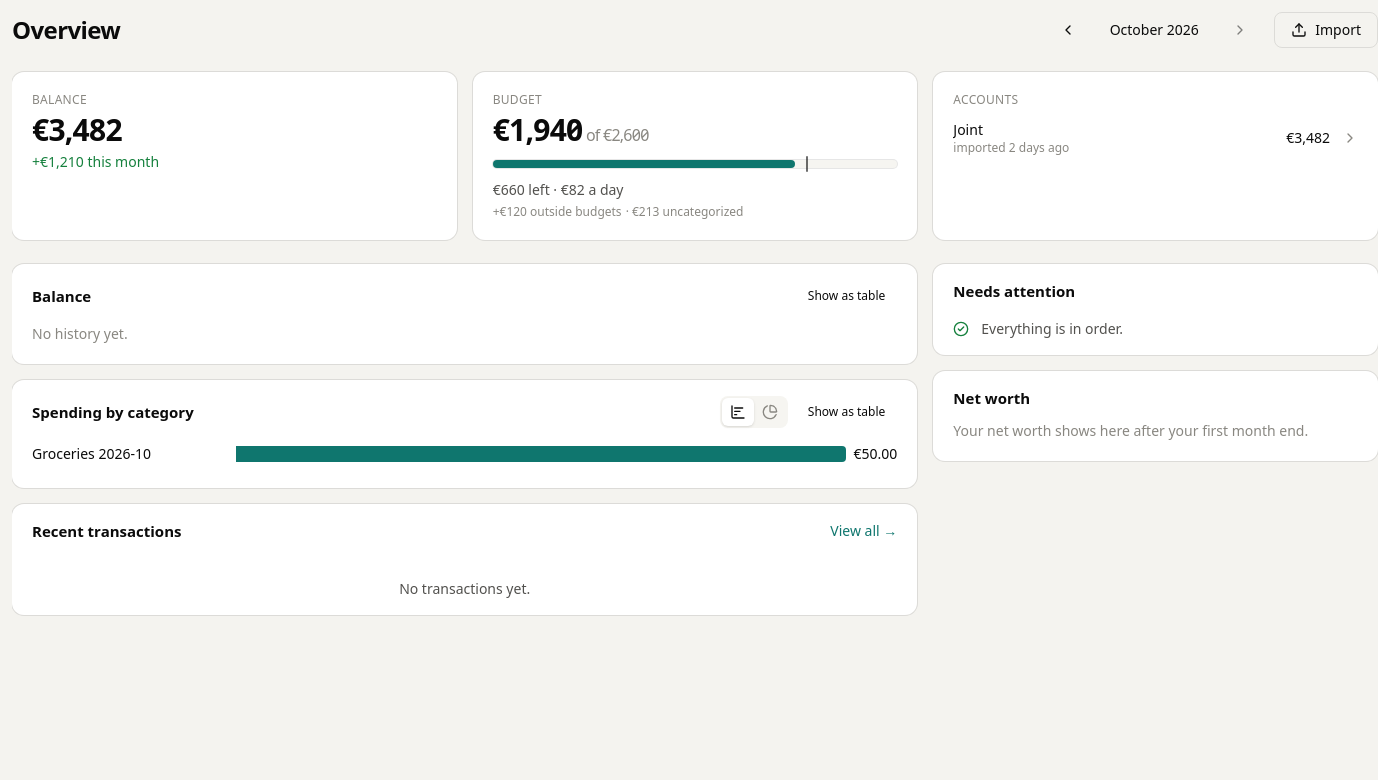
Test: Charts and tabs › the charts follow the page's month
Check: the text "Groceries 2026-10" is shown, box [32,444,151,464]
What coordinates should you click on to do the following:
click the button named "Previous month"
I would click on:
 (1068, 30)
Its box is [1050,12,1086,48].
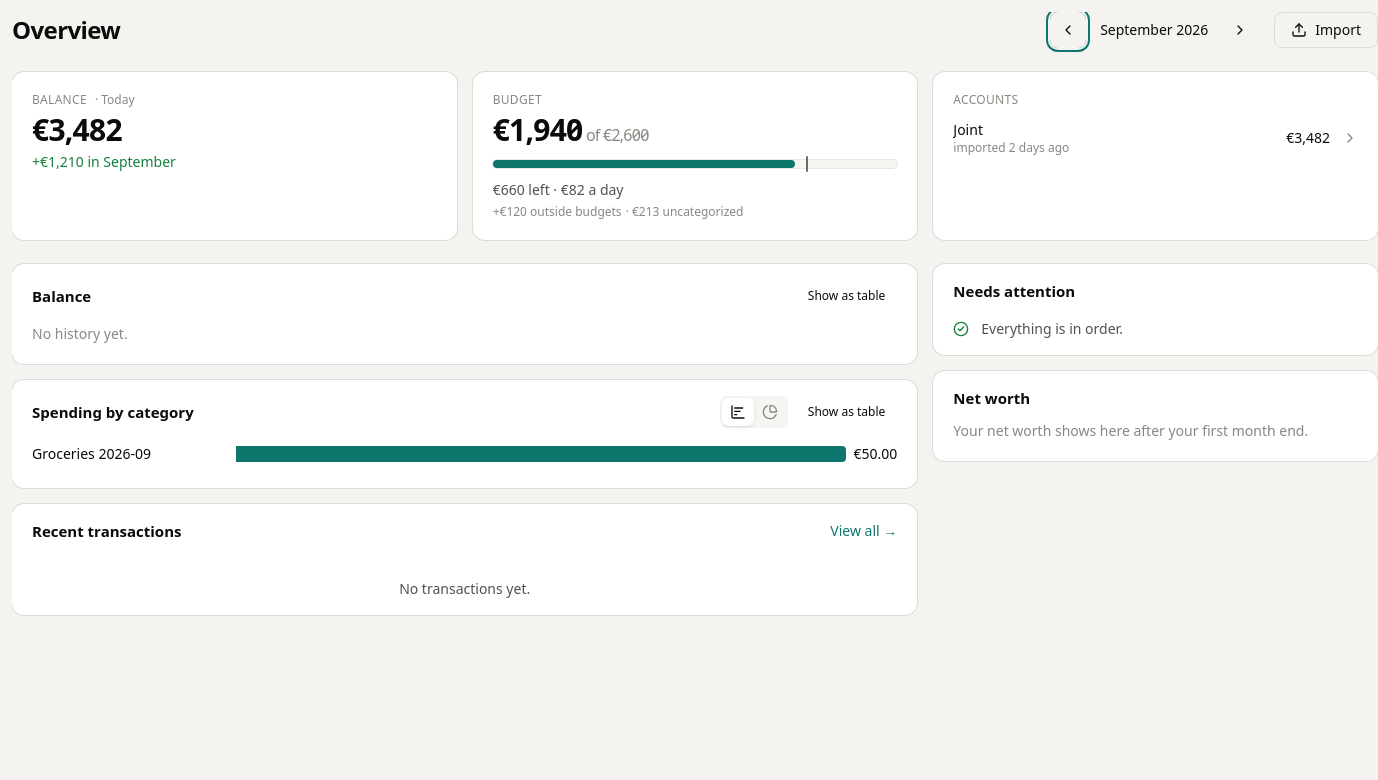
Check: the text "Groceries 2026-09" is shown, box [32,444,151,464]
